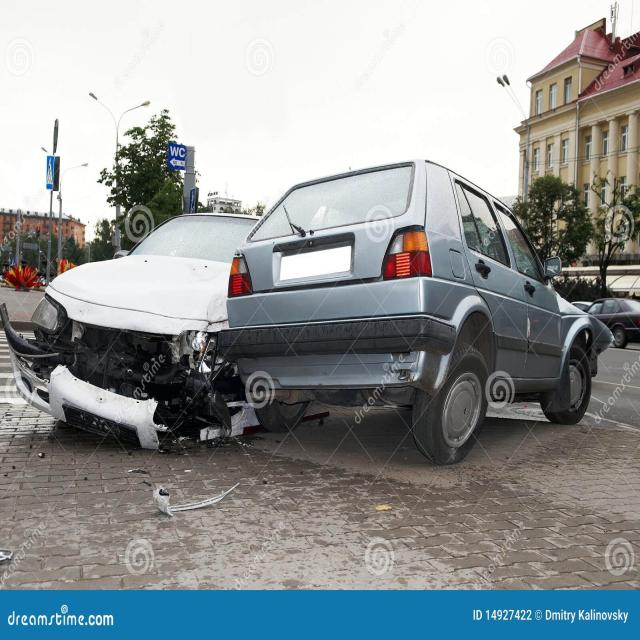crush: (0, 290, 259, 450)
